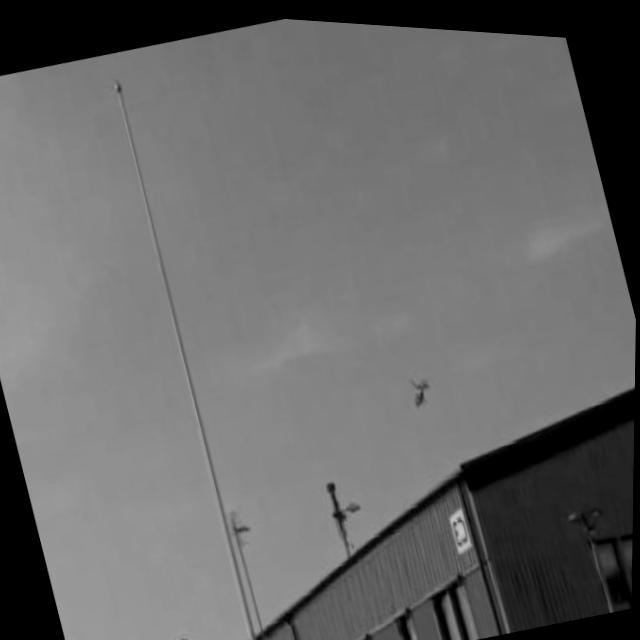helikopter: (399, 358, 444, 408)
